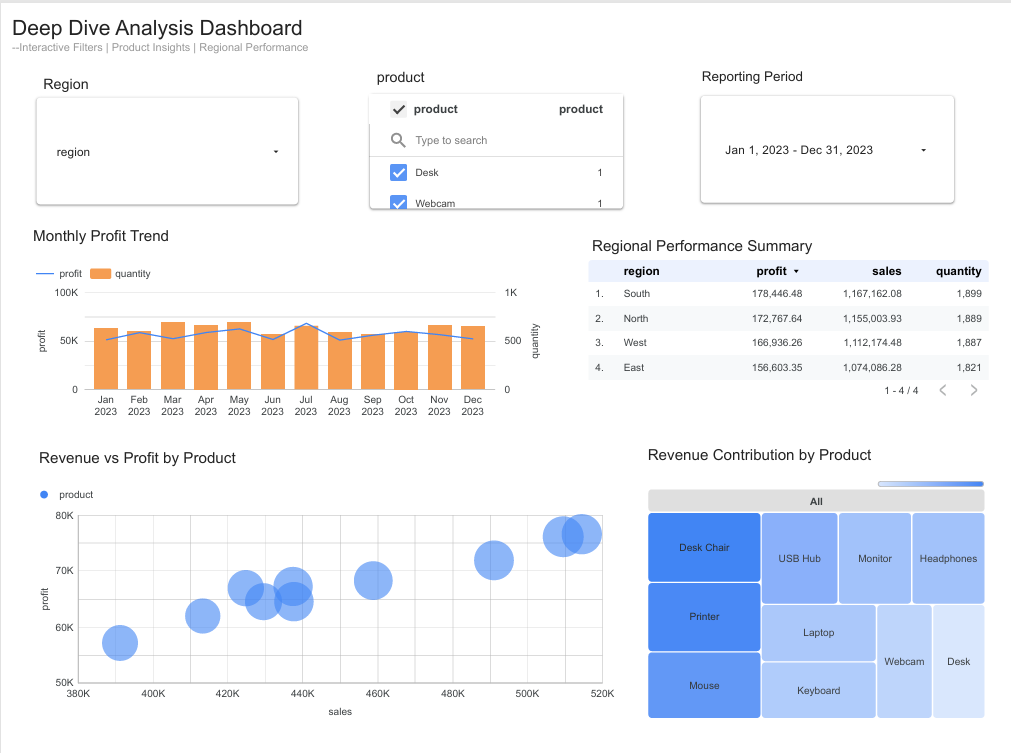

This screenshot's page, from the dashboard's own definition file:
{"tool":"powerbi","page":{"name":"第 2 页","canvas":[1280,720],"ordinal":1},"visuals":[{"type":"slicer","fields":{"Values":["retail_sales_dataset.region"]},"box":[0,42.1,192.7,278.5],"z":0},{"type":"slicer","fields":{"Values":["retail_sales_dataset.product"]},"box":[560.3,42.1,278.5,281.7],"z":1000},{"type":"slicer","fields":{"Values":["retail_sales_dataset.Month Name"]},"box":[247.7,42.1,278.5,278.5],"z":2000},{"type":"lineChart","title":"Monthly Profit Trend","fields":{"Y":["Sum(retail_sales_dataset.profit)"],"Category":["retail_sales_dataset.Month Name"]},"box":[0,328.7,526.2,341.7],"z":3000},{"type":"scatterChart","title":"Revenue vs Profit by Product","fields":{"X":["Sum(retail_sales_dataset.sales)"],"Y":["Sum(retail_sales_dataset.profit)"],"Series":["retail_sales_dataset.product"],"Category":["retail_sales_dataset.quantity"]},"box":[544.1,328.7,704.4,341.7],"z":4000},{"type":"tableEx","fields":{"Values":["retail_sales_dataset.region","Sum(retail_sales_dataset.sales)","Sum(retail_sales_dataset.profit)","Sum(retail_sales_dataset.quantity)"]},"box":[858.2,84.2,390.2,236.4],"z":5000},{"type":"textbox","box":[0,0,544.1,42.1],"z":5001}]}

Visuals, with their boxes on the page's 1280x720 design canvas (x1, y1, x2, y2). These are canvas units, not pixel positions in the 1011x753 screenshot, which may show the page scaled, cropped or inside an application window:
slicer - retail_sales_dataset.region: <bbox>0, 42, 193, 321</bbox>
slicer - retail_sales_dataset.product: <bbox>560, 42, 839, 324</bbox>
slicer - retail_sales_dataset.Month Name: <bbox>248, 42, 526, 321</bbox>
"Monthly Profit Trend" lineChart: <bbox>0, 329, 526, 670</bbox>
"Revenue vs Profit by Product" scatterChart: <bbox>544, 329, 1248, 670</bbox>
tableEx - retail_sales_dataset.region x Sum(retail_sales_dataset.sales): <bbox>858, 84, 1248, 321</bbox>
textbox: <bbox>0, 0, 544, 42</bbox>
